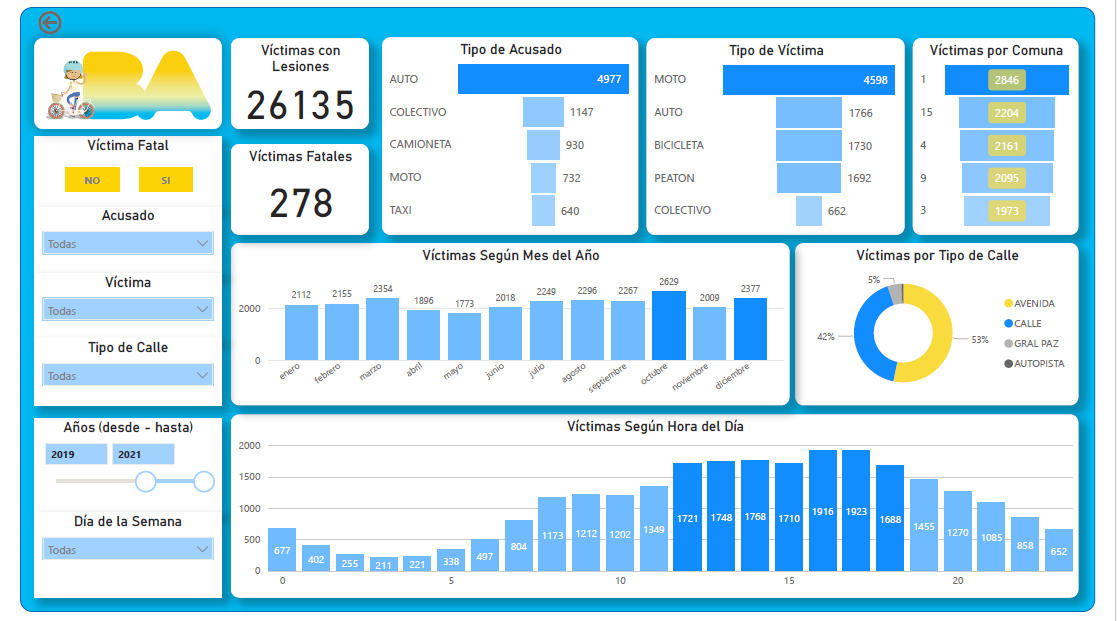

Layout of this report page (visuals, bound fields, positions):
{"tool":"powerbi","page":{"name":"Página 4","canvas":[1280,720],"ordinal":3},"visuals":[{"type":"shape","box":[0,0,1280.2,720],"z":0},{"type":"funnel","title":"Accidentes por Tipo de Acusado","fields":{"Category":["siniestrosEDA.ACUSADO"],"Y":["CountNonNull(siniestrosEDA.ACUSADO)"]},"box":[430.6,36,305.3,234.7],"z":1000},{"type":"funnel","title":"Accidentes por Tipo de Víctima","fields":{"Category":["siniestrosEDA.VICTIMA"],"Y":["CountNonNull(siniestrosEDA.VICTIMA)"]},"box":[745.9,37.4,306.7,233.3],"z":2000},{"type":"funnel","title":"Accidentes por Comuna","fields":{"Category":["siniestrosEDA.COMUNA"],"Y":["CountNonNull(siniestrosEDA.COMUNA)"]},"box":[1062.7,37.4,197.3,233.3],"z":3000},{"type":"slicer","title":"Víctima Fatal","fields":{"Values":["siniestrosEDA.FATAL - Copia"]},"box":[17.3,154.1,223.2,83.5],"z":4000},{"type":"slicer","title":"Años (desde - hasta)","fields":{"Values":["siniestrosEDA.FECHA.Variación.Jerarquía de fechas.Año"]},"box":[17.3,489.6,223.2,112.3],"z":5000},{"type":"slicer","title":"Día de la Semana","fields":{"Values":["siniestrosEDA.DIA_SEMANA"]},"box":[17.3,601.9,223.2,100.8],"z":6000},{"type":"donutChart","title":"Víctimas por Tipo de Calle","fields":{"Category":["siniestrosEDA.TIPO_CALLE"],"Y":["CountNonNull(siniestrosEDA.TIPO_CALLE)"]},"box":[922.5,281.2,337.5,192.5],"z":7000},{"type":"columnChart","title":"Víctimas Según Hora del Día","fields":{"Category":["siniestrosEDA.H"],"Y":["Sum(siniestrosEDA.VICTIMAS)"]},"box":[250.6,485.3,1009.4,217.4],"z":8000},{"type":"clusteredColumnChart","title":"Víctimas Según Mes del Año","fields":{"Category":["siniestrosEDA.FECHA.Variación.Jerarquía de fechas.Mes"],"Y":["Sum(siniestrosEDA.VICTIMAS)"]},"box":[250.6,280.8,665.3,193],"z":9000},{"type":"slicer","title":"Acusado","fields":{"Values":["siniestrosEDA.ACUSADO"]},"box":[17.3,237.6,223.2,79.2],"z":10000},{"type":"slicer","title":"Víctima","fields":{"Values":["siniestrosEDA.VICTIMA"]},"box":[17.3,316.8,223.2,77.8],"z":11000},{"type":"slicer","title":"Tipo de Calle","fields":{"Values":["siniestrosEDA.TIPO_CALLE"]},"box":[17.3,394.6,223.2,79.2],"z":12000},{"type":"card","title":"Víctimas con Lesiones","fields":{"Values":["Sum(siniestrosEDA.VICTIMAS)"]},"box":[250.6,37.4,164.2,108],"z":13000},{"type":"card","title":"Víctimas Fatales","fields":{"Values":["Sum(siniestrosEDA.FATAL)"]},"box":[250.6,162.7,164.2,108],"z":14000},{"type":"image","box":[17.3,37.4,223.2,108],"z":15000},{"type":"actionButton","box":[17.3,0,50.4,37.4],"z":16000}]}

Visuals, with their boxes in screenshot pixels (x1, y1, x2, y2), scaled from the page's 1280x720 canvas onto the 1117x621 screenshot:
shape: pyautogui.locateOnScreen(0, 0, 1116, 620)
"Accidentes por Tipo de Acusado" funnel: pyautogui.locateOnScreen(376, 31, 642, 233)
"Accidentes por Tipo de Víctima" funnel: pyautogui.locateOnScreen(651, 32, 919, 233)
"Accidentes por Comuna" funnel: pyautogui.locateOnScreen(927, 32, 1100, 233)
"Víctima Fatal" slicer: pyautogui.locateOnScreen(15, 133, 210, 205)
"Años (desde - hasta)" slicer: pyautogui.locateOnScreen(15, 422, 210, 519)
"Día de la Semana" slicer: pyautogui.locateOnScreen(15, 519, 210, 606)
"Víctimas por Tipo de Calle" donutChart: pyautogui.locateOnScreen(805, 243, 1100, 409)
"Víctimas Según Hora del Día" columnChart: pyautogui.locateOnScreen(219, 419, 1100, 606)
"Víctimas Según Mes del Año" clusteredColumnChart: pyautogui.locateOnScreen(219, 242, 799, 409)
"Acusado" slicer: pyautogui.locateOnScreen(15, 205, 210, 273)
"Víctima" slicer: pyautogui.locateOnScreen(15, 273, 210, 340)
"Tipo de Calle" slicer: pyautogui.locateOnScreen(15, 340, 210, 409)
"Víctimas con Lesiones" card: pyautogui.locateOnScreen(219, 32, 362, 125)
"Víctimas Fatales" card: pyautogui.locateOnScreen(219, 140, 362, 233)
image: pyautogui.locateOnScreen(15, 32, 210, 125)
actionButton: pyautogui.locateOnScreen(15, 0, 59, 32)
